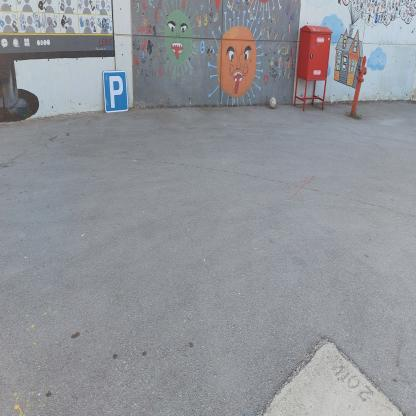Parking-Sign: (104, 71, 130, 114)
